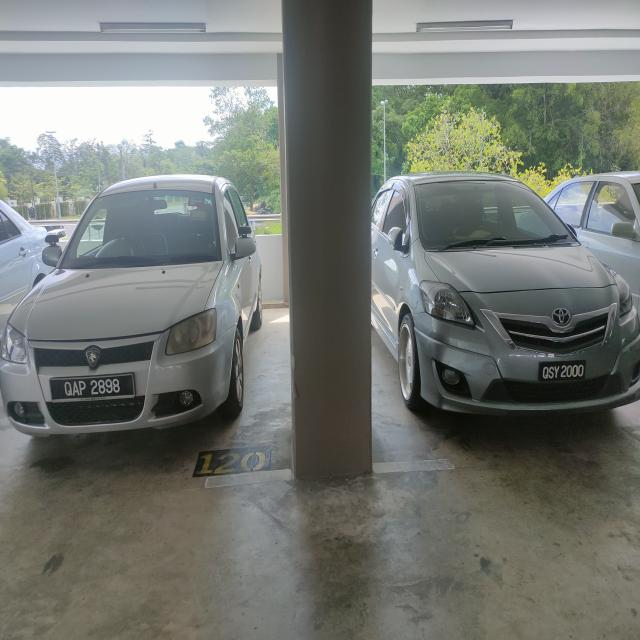ToyotaVios: (365, 132, 640, 478)
